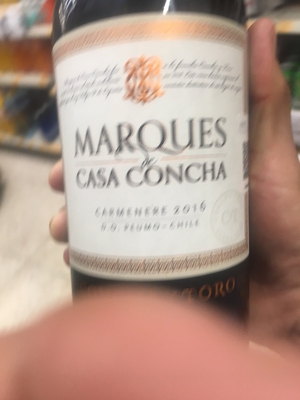marques de casa concha carmenere: (50, 1, 265, 318)
